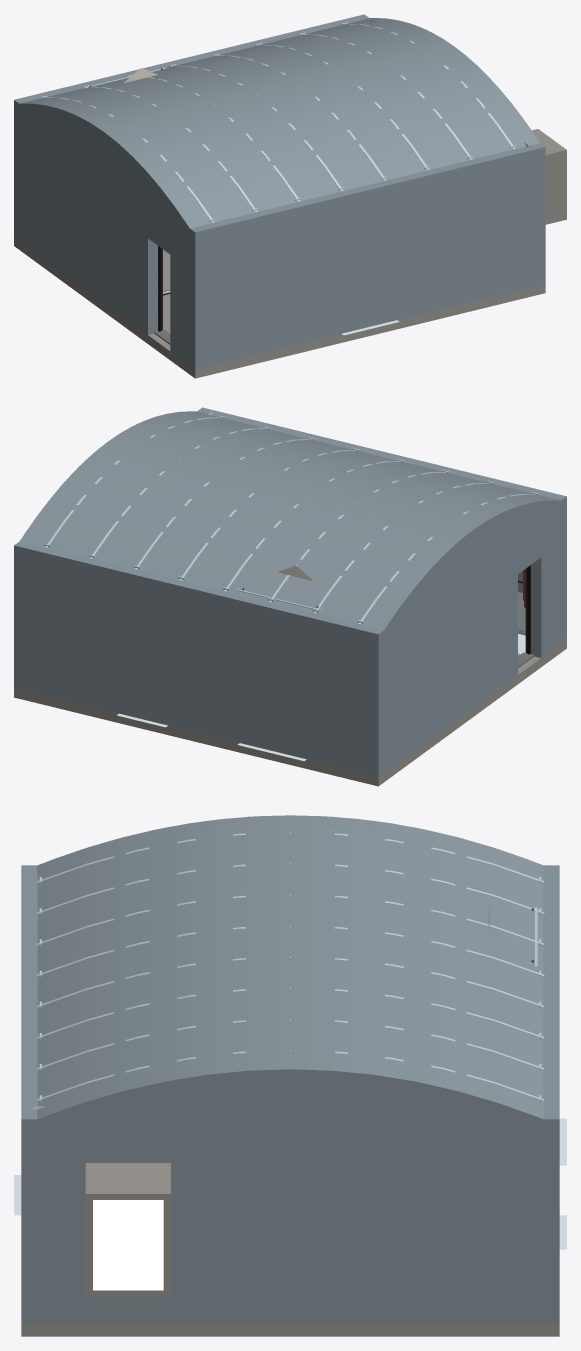
File: room_cold.glb
3 renders of one model, top to bottom at view 1: azimuth 30°, elevation 25°; view 2: azimuth 150°, elevation 25°; view 3: azimuth 270°, elevation 25°, orthographic. The views are drawn at different scales.
Visible parts, largest first — view 1: ceiling, wall_s, wall_w, floor, wall_n, ribs, well, wall_e, door_frame; view 2: ceiling, wall_n, wall_w, floor, wall_s, ribs, wall_e, frost_decals, door_frame; view 3: ceiling, wall_e, floor, window_glow, ribs, well, wall_n, wall_s, wall_w, frost_decals.
Boxes of the visible parts, left/top/right/bottom form: ceiling: left=23, top=18, right=536, bottom=225; wall_s: left=189, top=143, right=545, bottom=369; wall_w: left=14, top=101, right=205, bottom=368; floor: left=14, top=237, right=545, bottom=378; wall_n: left=14, top=14, right=369, bottom=241; ribs: left=41, top=22, right=516, bottom=222; well: left=532, top=129, right=566, bottom=224; wall_e: left=358, top=18, right=545, bottom=286; door_frame: left=154, top=246, right=170, bottom=344; ceiling: left=23, top=411, right=556, bottom=627; wall_n: left=14, top=541, right=384, bottom=776; wall_w: left=367, top=497, right=566, bottom=776; floor: left=14, top=639, right=566, bottom=786; wall_s: left=197, top=407, right=566, bottom=643; ribs: left=44, top=415, right=538, bottom=624; wall_e: left=14, top=411, right=208, bottom=650; frost_decals: left=117, top=411, right=525, bottom=761; door_frame: left=518, top=565, right=534, bottom=667; ceiling: left=37, top=815, right=543, bottom=1115; wall_e: left=21, top=1061, right=559, bottom=1323; floor: left=21, top=1323, right=559, bottom=1336; window_glow: left=93, top=1200, right=163, bottom=1290; ribs: left=36, top=831, right=544, bottom=1101; well: left=85, top=1163, right=170, bottom=1297; wall_n: left=541, top=865, right=559, bottom=1136; wall_s: left=21, top=865, right=38, bottom=1222; wall_w: left=37, top=816, right=543, bottom=873; frost_decals: left=14, top=1106, right=566, bottom=1249.
Size of the model in its own units: 9.15 by 4 by 7.5.
